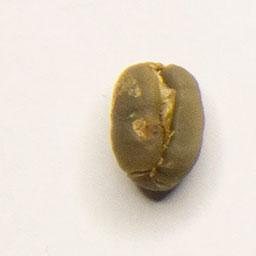peaberry: (106, 58, 207, 196)
